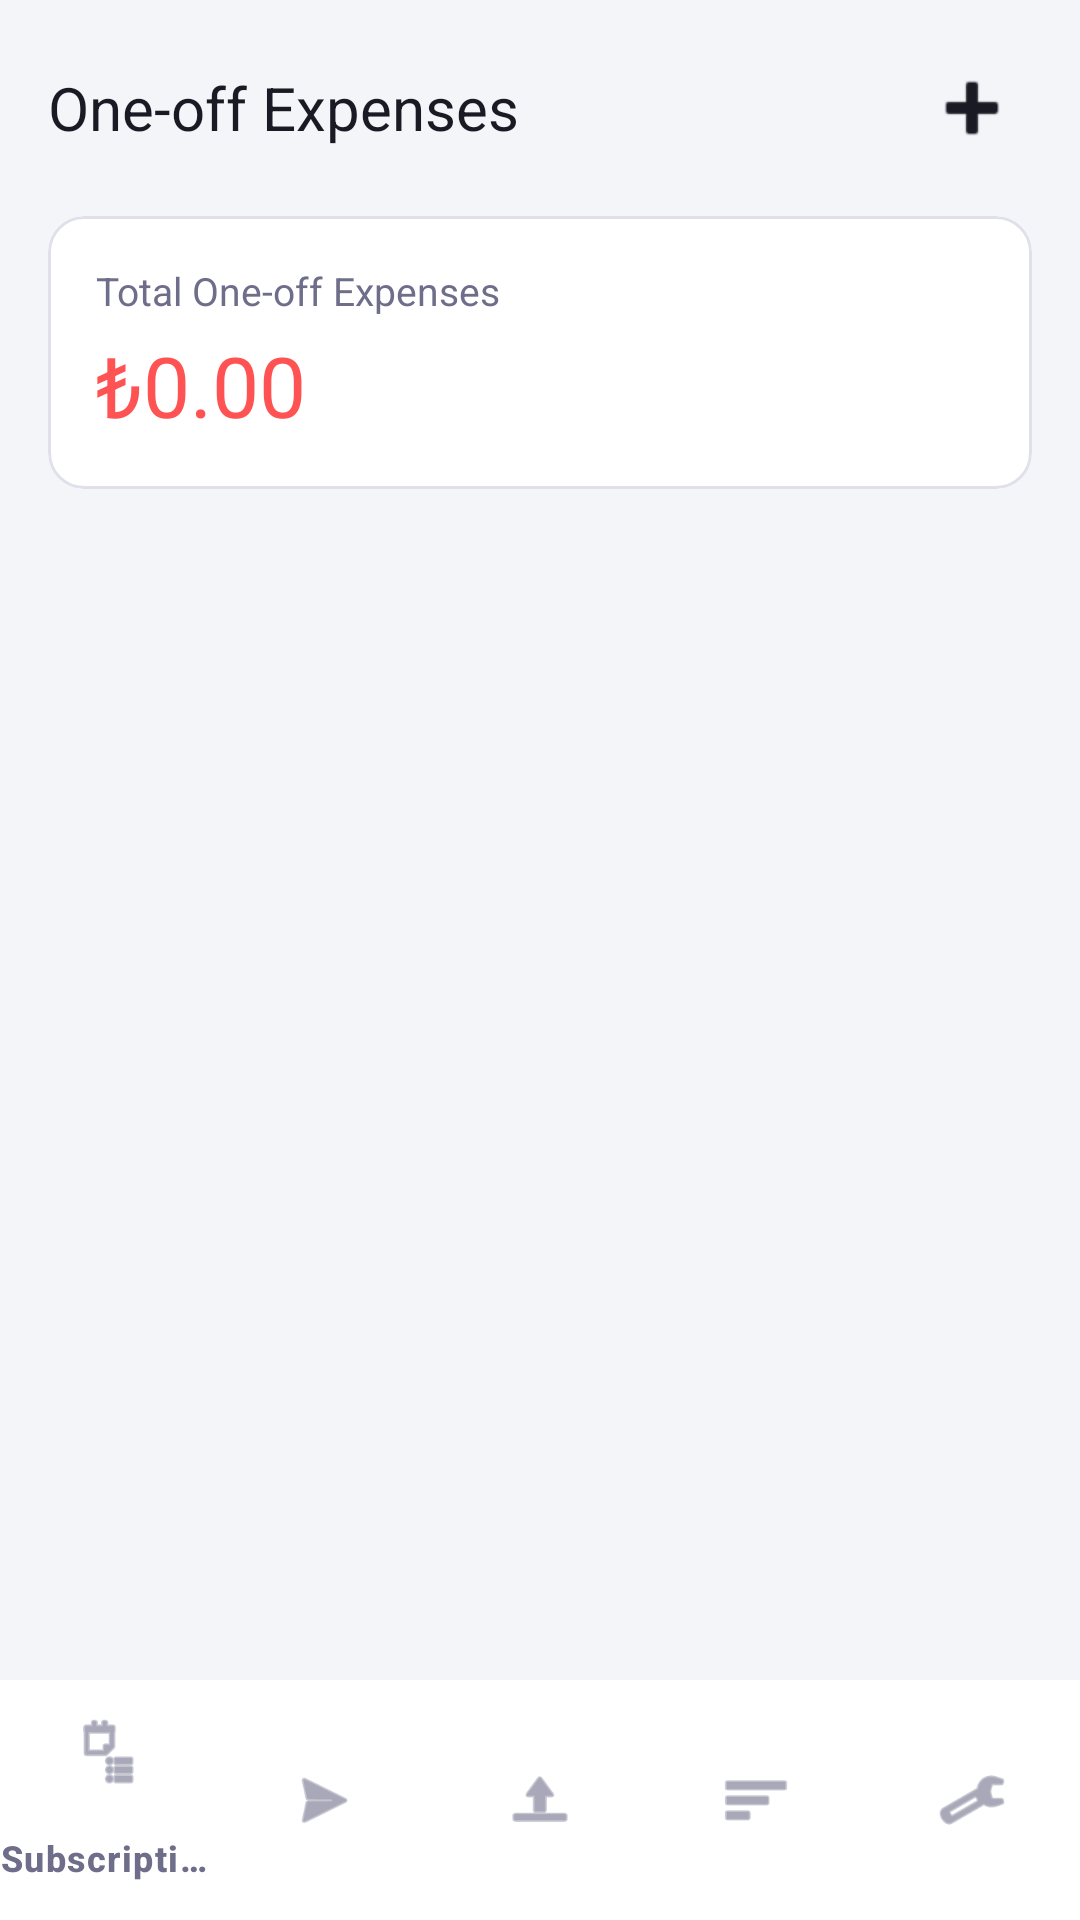

Icon click points for this 1080w x 1920h phone screenshot, format (x=x, y=y):
Add Expense: (x=972, y=108)
